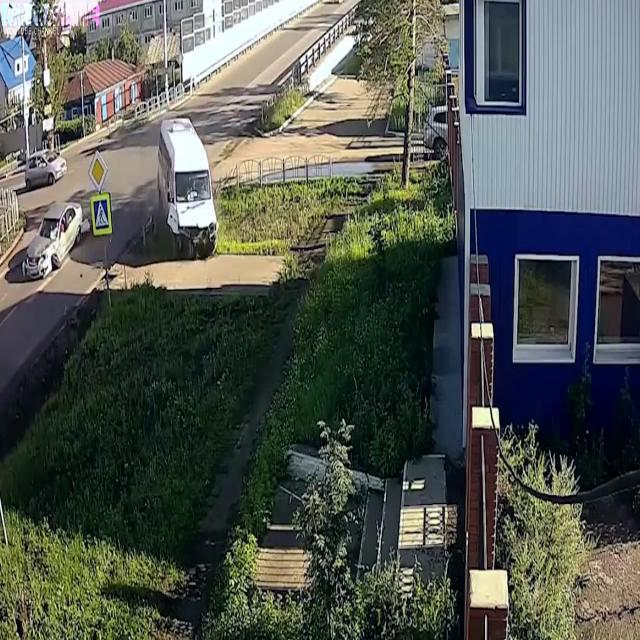accident: (149, 110, 221, 262), (19, 189, 89, 287)
